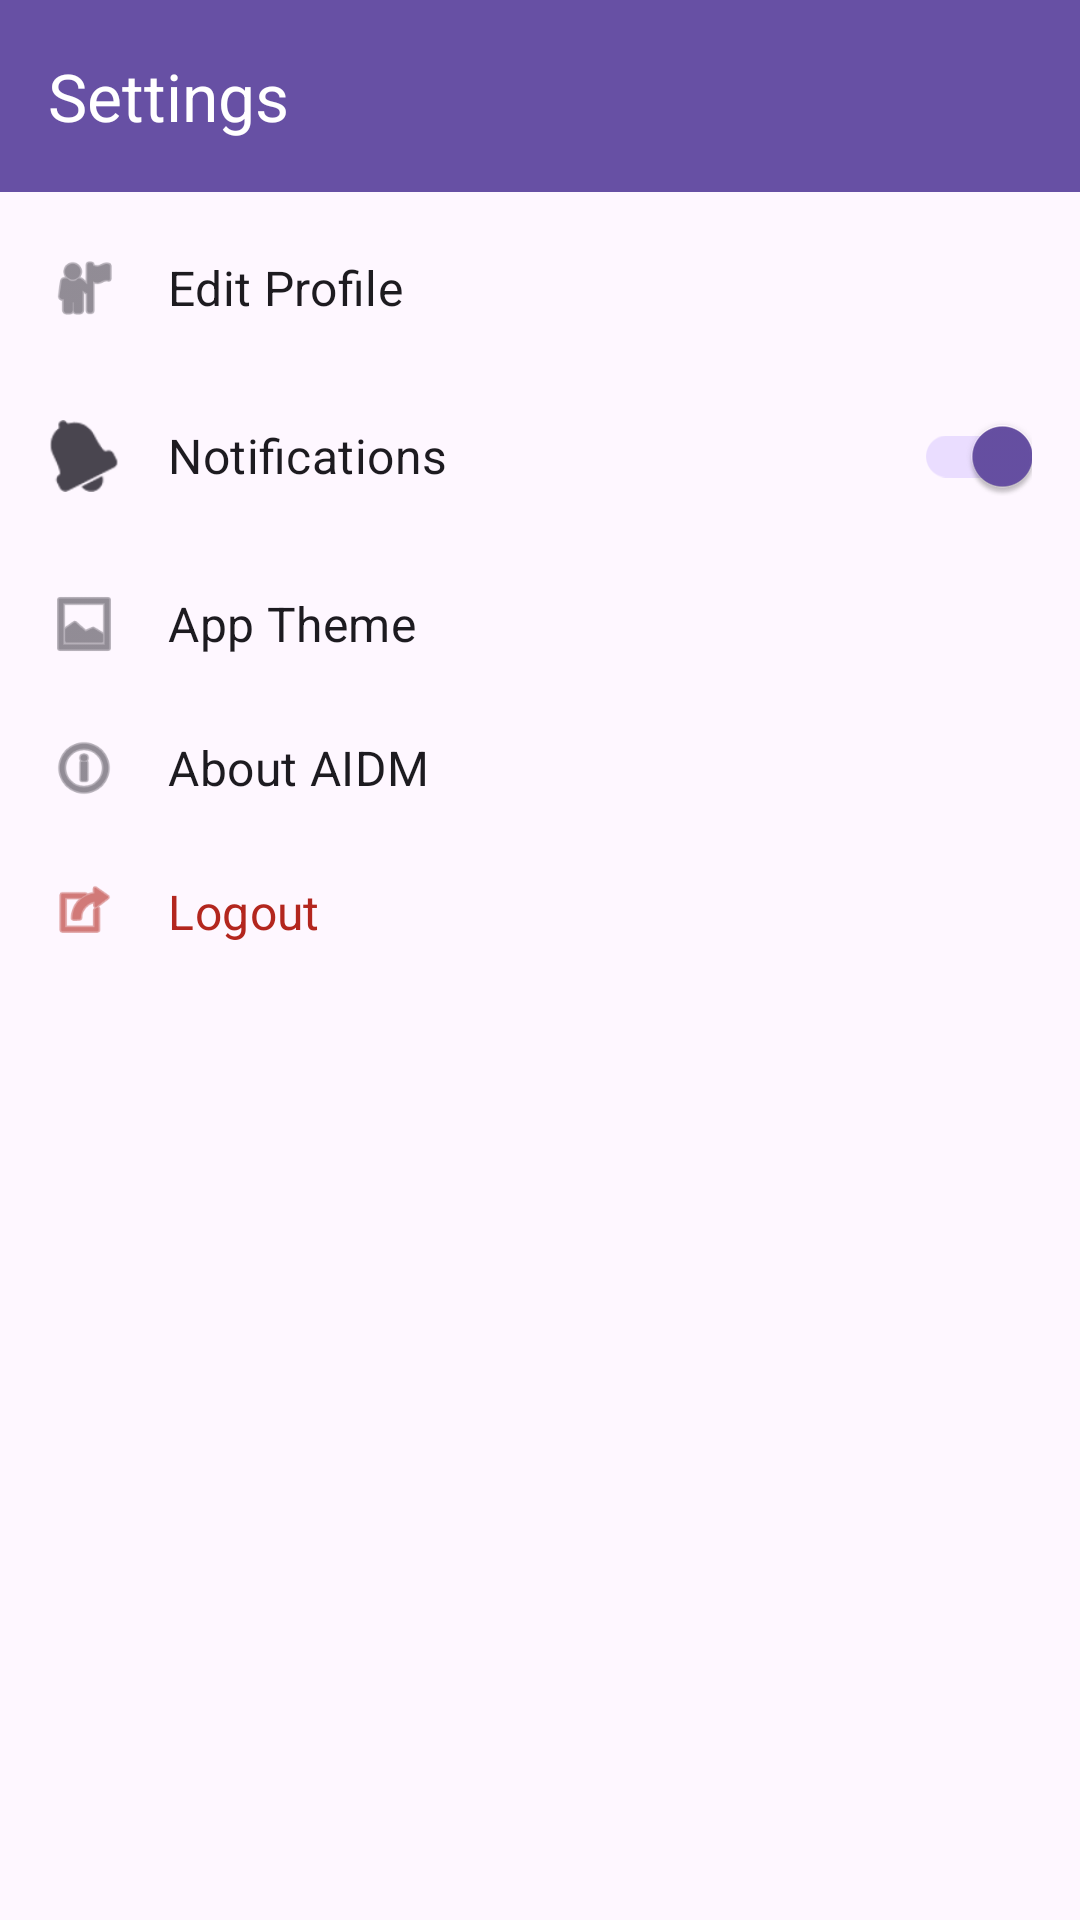

Icon bounding boxes for this 1080px×1920px phone screenshot, format detection(x1, y1, x2, y2):
gallery: detection(57, 597, 111, 651)
info details: detection(58, 742, 110, 794)
myplaces: detection(58, 261, 112, 315)
popup reminder: detection(50, 420, 118, 492)
set as: detection(59, 886, 110, 933)
